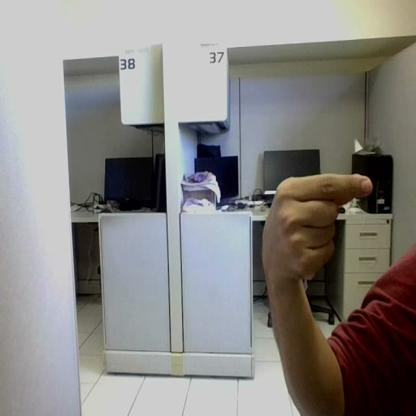G: (274, 174, 370, 281)
